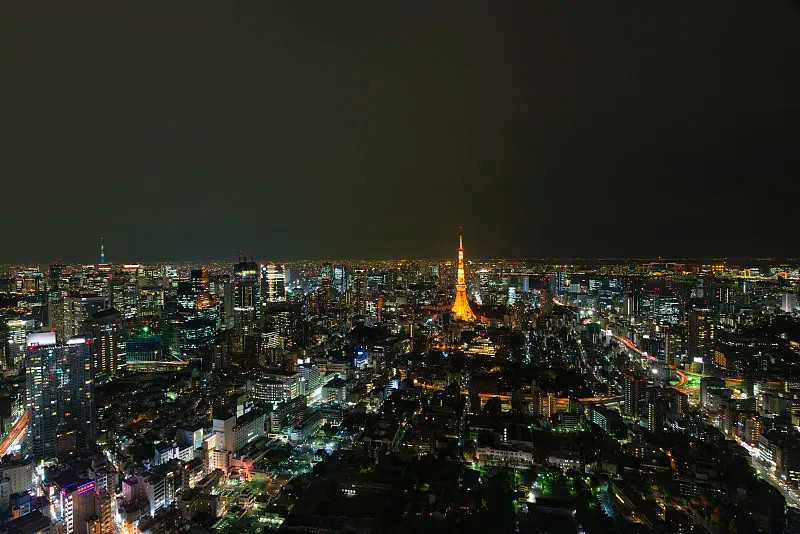Tokyo: (446, 221, 476, 324)
